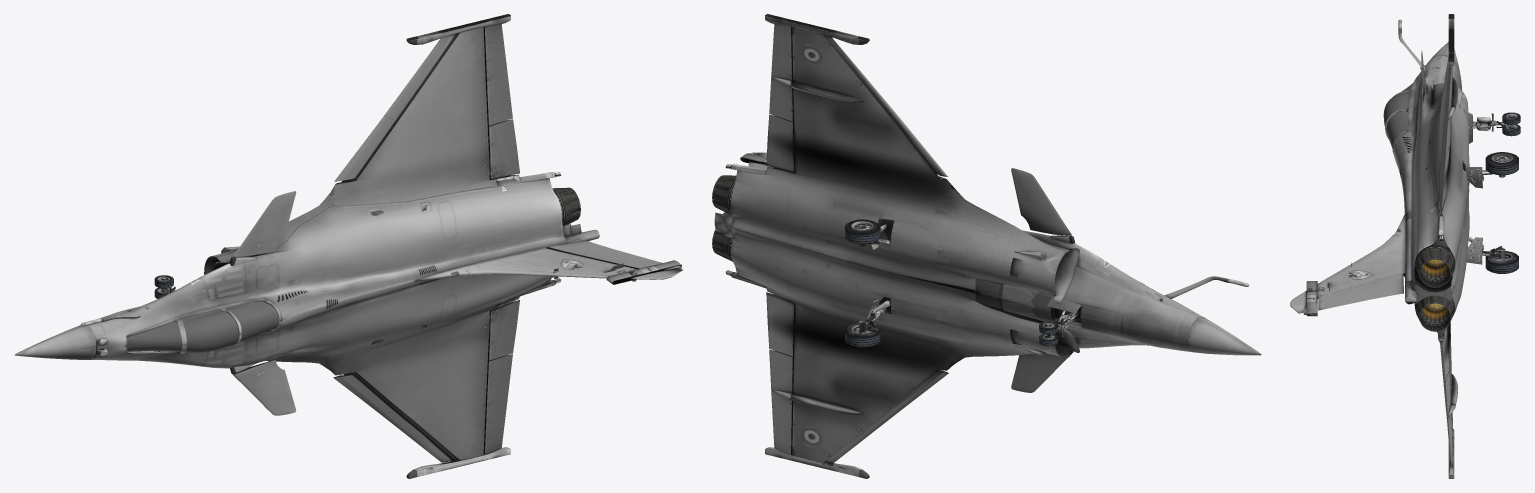
The model's file is rafale_wireframe.fbx.
The picture shows the model from 3 angles, left to right: view 1: azimuth 30°, elevation 25°; view 2: azimuth 150°, elevation 25°; view 3: azimuth 270°, elevation 25°; orthographic projection. The views are drawn at different scales.
Parts seen in each view (by area): view 1: rafale_wireframe; view 2: rafale_wireframe; view 3: rafale_wireframe.
Part boxes in pixels (left/top/right/bottom): rafale_wireframe: left=15, top=14, right=682, bottom=478; rafale_wireframe: left=712, top=14, right=1261, bottom=478; rafale_wireframe: left=1290, top=14, right=1520, bottom=478.
Bounding box in the file's own units: 598 × 423 × 212.
